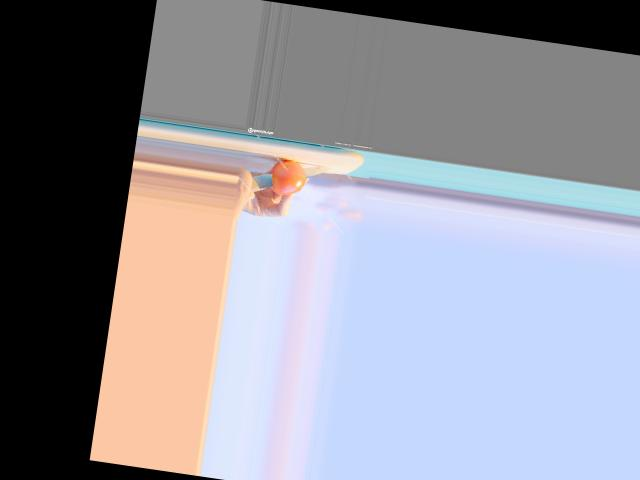tomato: (267, 157, 309, 197)
